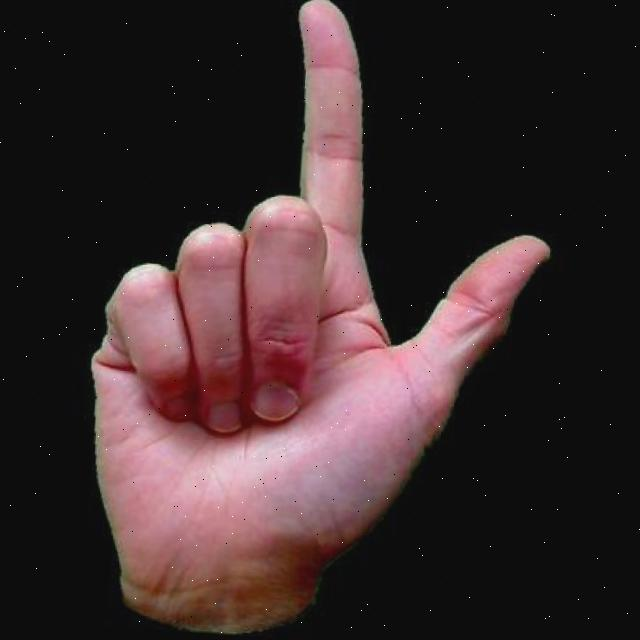l: (52, 0, 582, 640)
